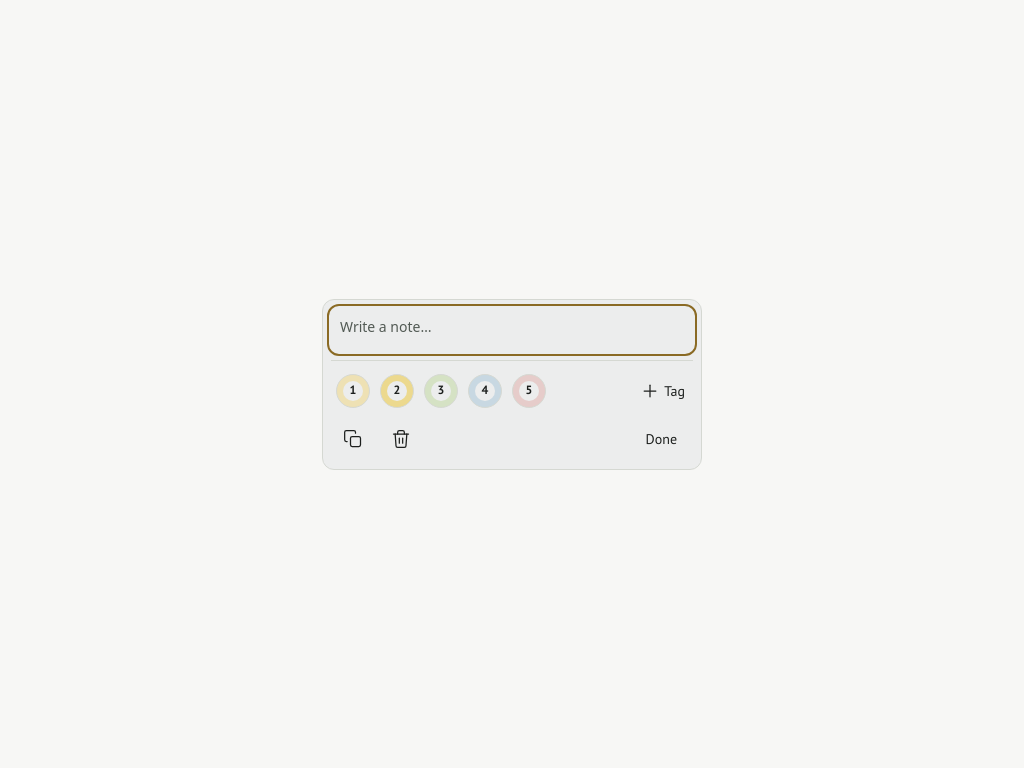
HighlightTagsDialog — disclosed tag editing › pressing × or + Tag never blurs the open field first (Safari focuses nothing on click)
Later steps or results of the test are not shown.
Click the button with aria-label "Add tag" at [663, 390], box [632, 368, 693, 412]
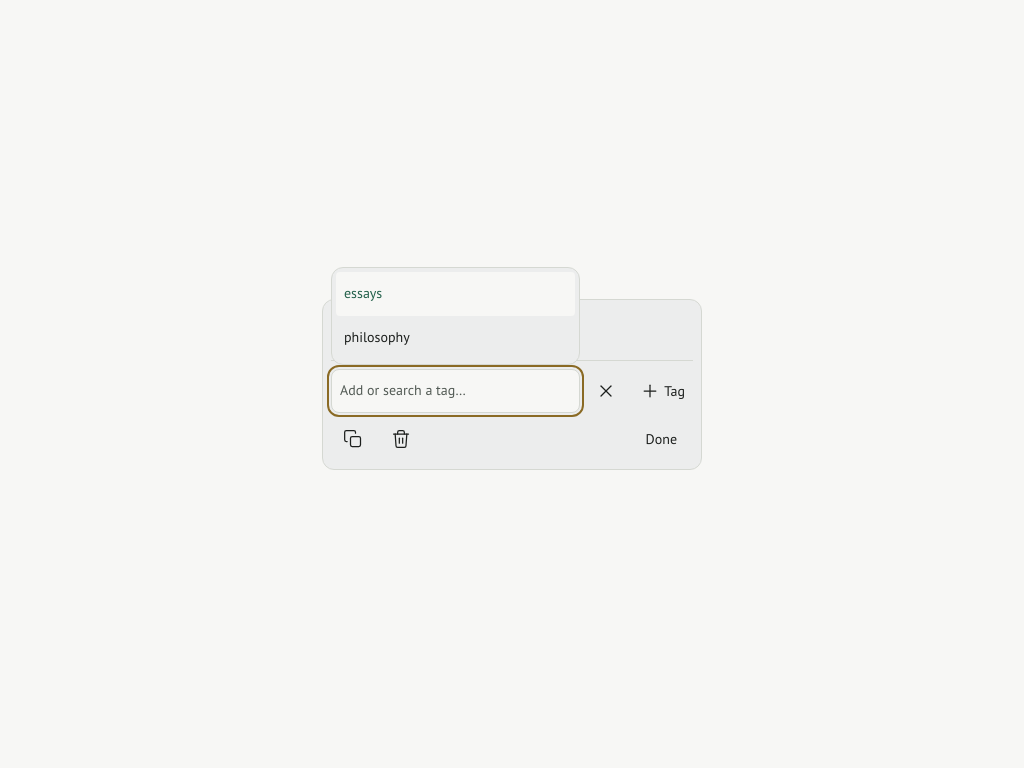
Press the mouse on the button with aria-label "Add tag" at [663, 390], box [632, 368, 693, 412]
Press the mouse on the button named "Done adding tags" at [606, 390], box [584, 368, 628, 412]
Click the button named "Done adding tags" at [606, 390], box [584, 368, 628, 412]
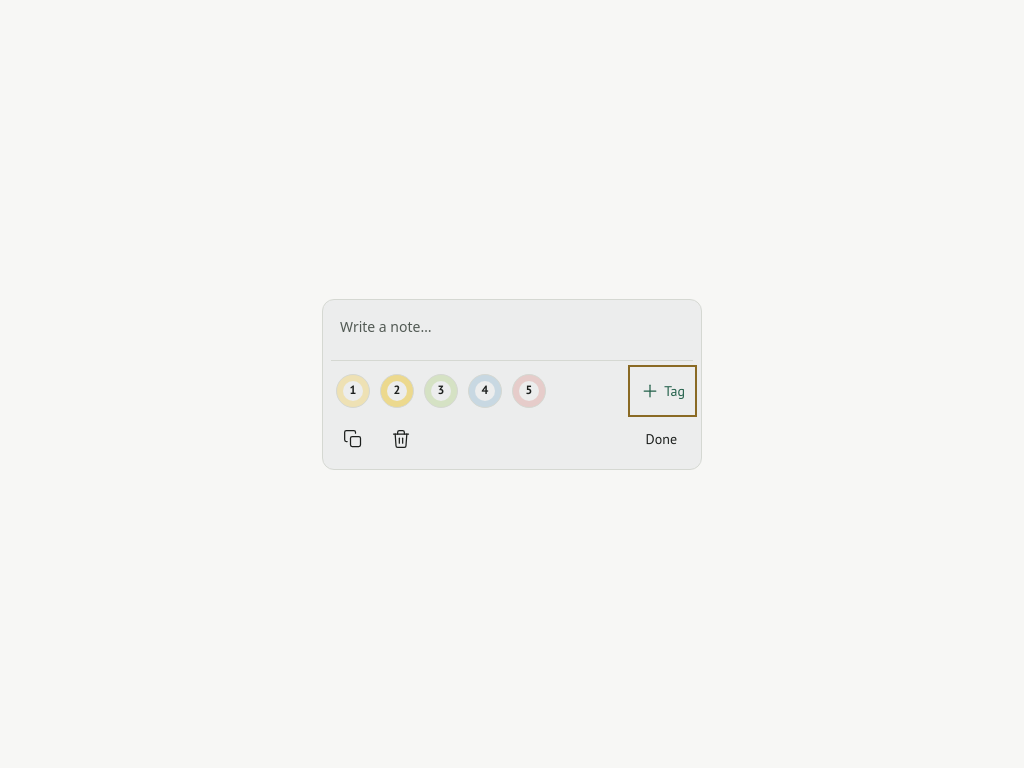
Expected: the dropdown is gone
